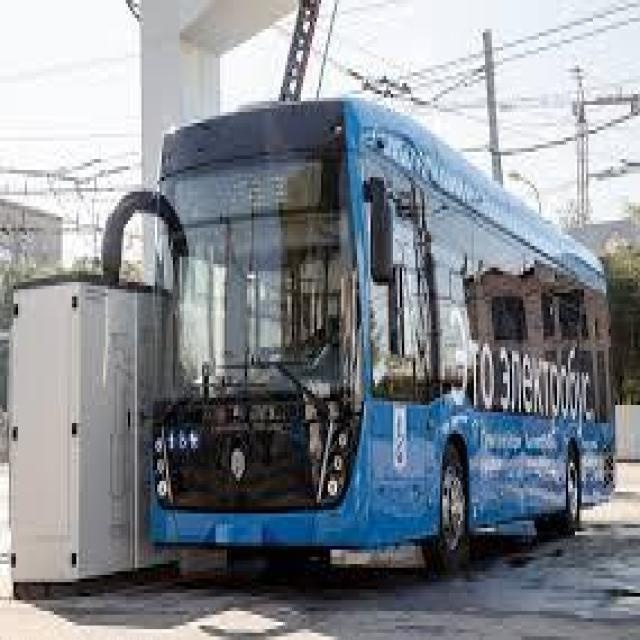Bus: (99, 90, 629, 582)
